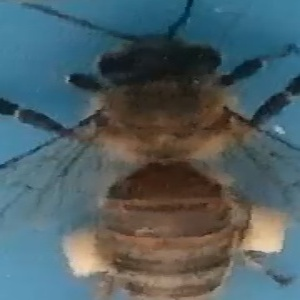bee: (13, 7, 298, 300)
